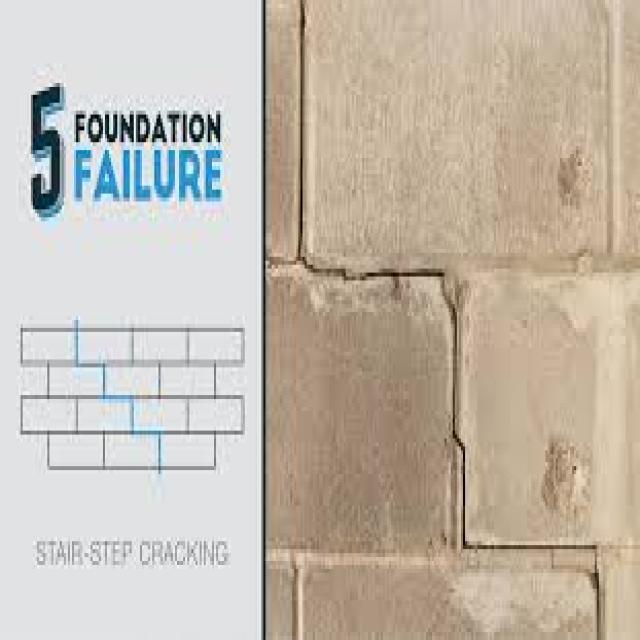Crack: (292, 0, 601, 636)
